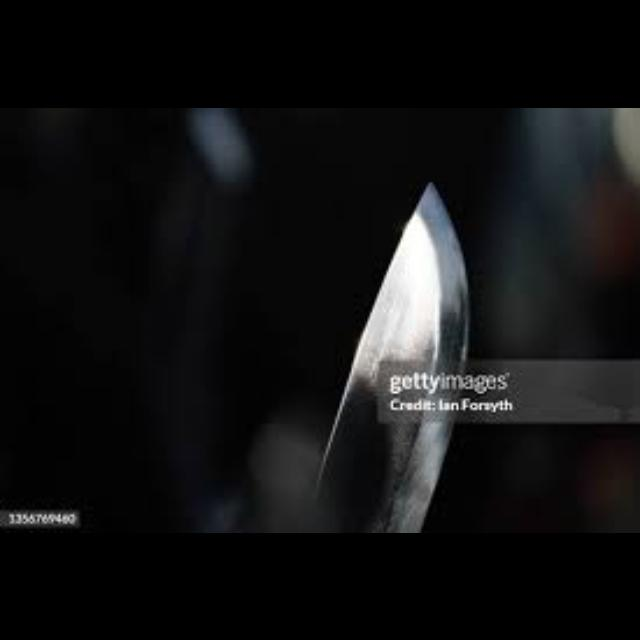knife: (312, 180, 470, 530)
